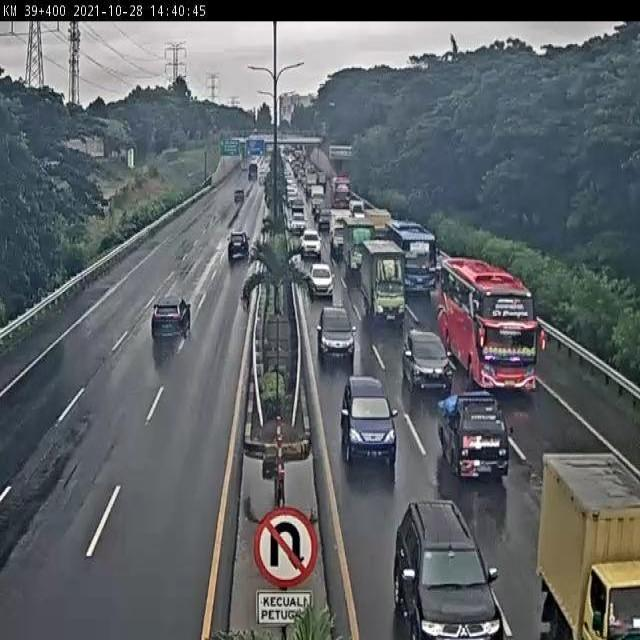ARABA: (437, 387, 512, 482), (338, 375, 397, 465), (401, 327, 455, 393), (316, 306, 356, 362), (308, 260, 336, 301), (227, 229, 250, 260)
KAMYONET: (360, 238, 408, 322), (148, 293, 192, 344)
OTOBUS: (437, 255, 539, 396), (384, 219, 437, 296)
